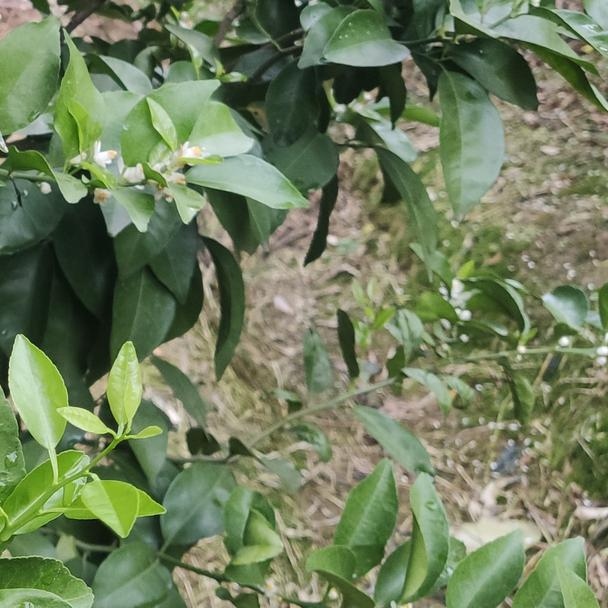shoot: (16, 355, 155, 536)
